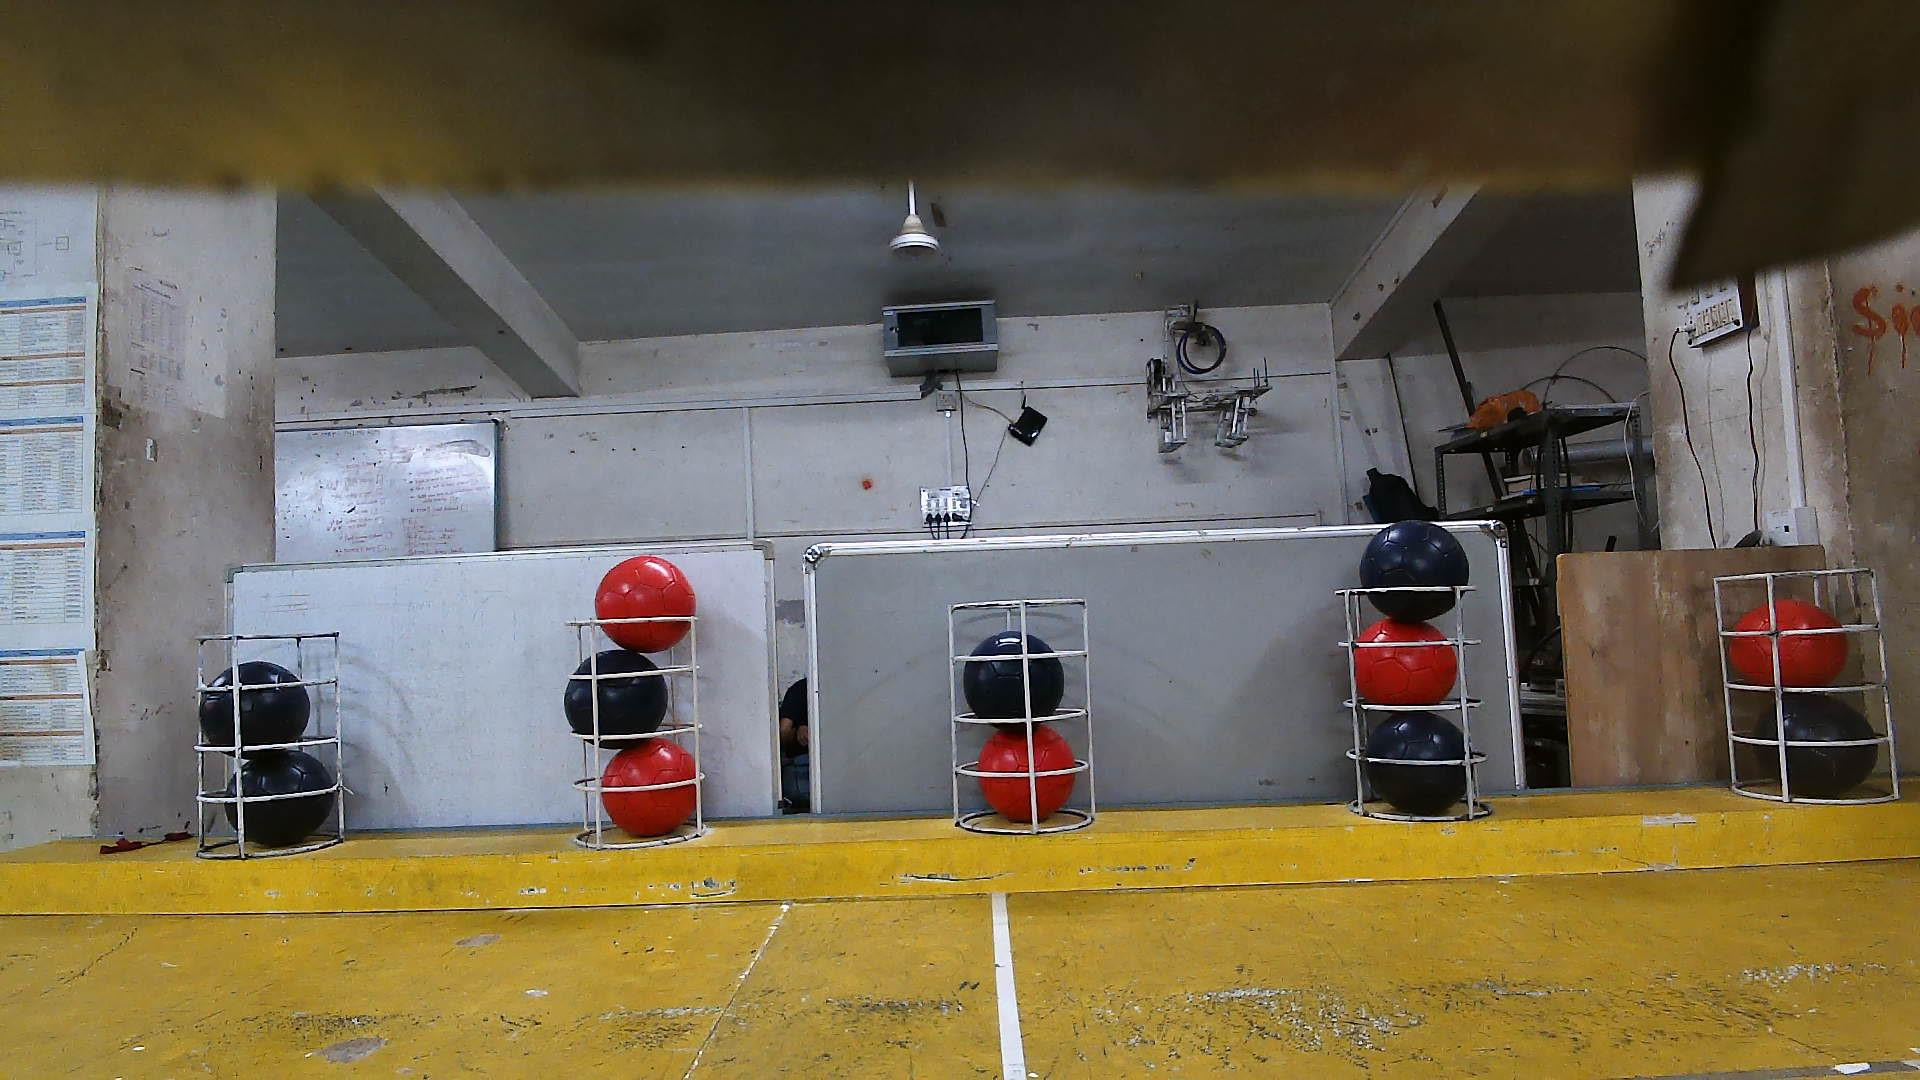dhoka: (1754, 692, 1878, 796), (222, 746, 339, 848), (1357, 521, 1470, 622), (562, 655, 674, 750), (1367, 709, 1468, 814), (199, 661, 311, 750), (964, 632, 1064, 729)
laale: (1739, 601, 1844, 699), (595, 556, 696, 654), (1354, 616, 1456, 709), (604, 737, 698, 837), (978, 728, 1076, 822)
